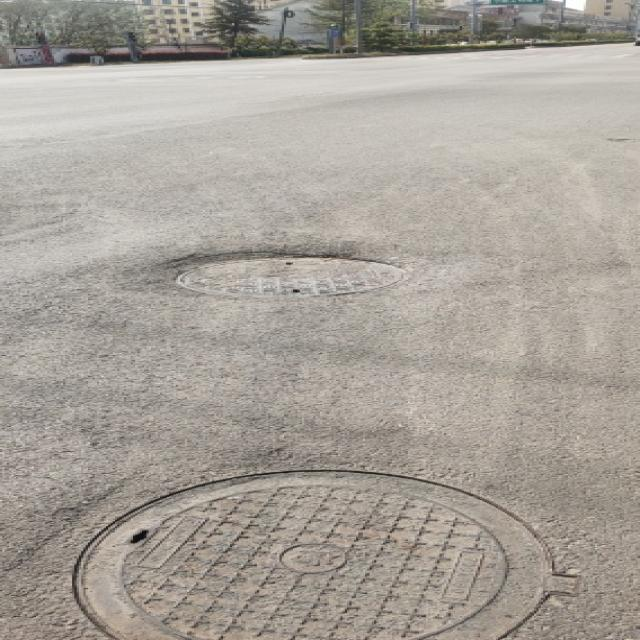Good: (42, 469, 598, 640), (161, 246, 419, 308)
